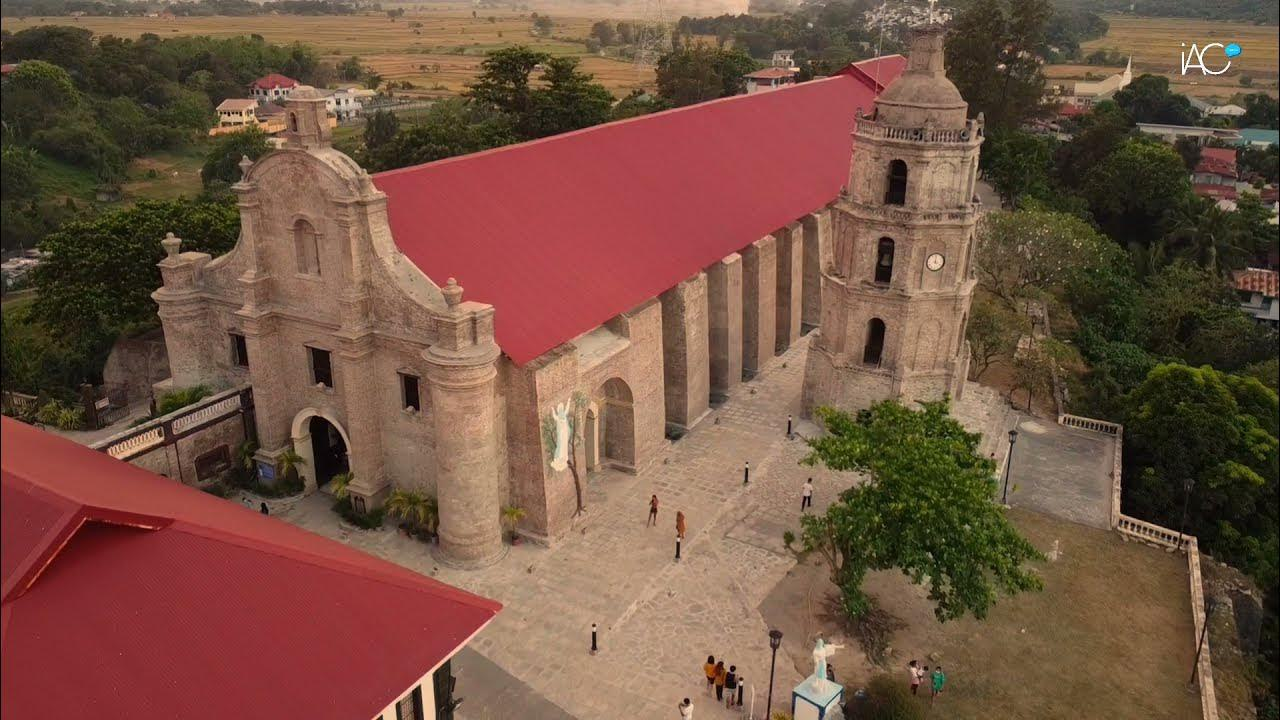Sta. Maria Church: (140, 88, 506, 569)
